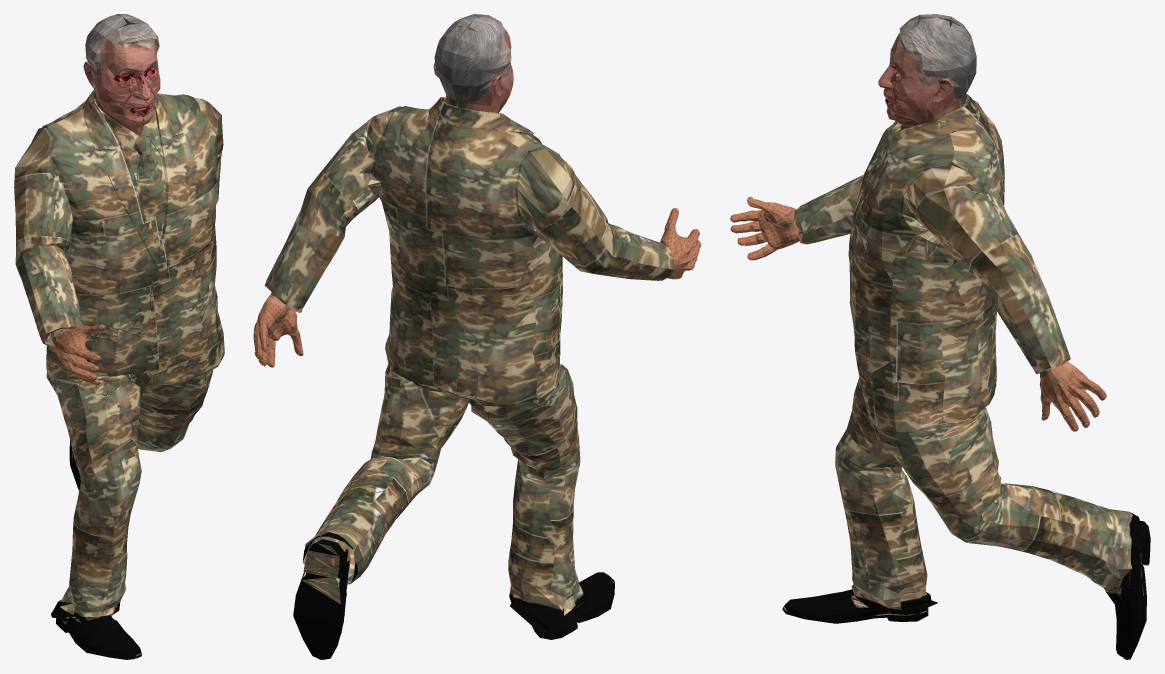
Rendered from zombie_000027.obj.
3 views of the same model, side by side, from view 1: azimuth 30°, elevation 25°; view 2: azimuth 150°, elevation 25°; view 3: azimuth 270°, elevation 25° (orthographic). The views are drawn at different scales.
Parts seen in each view (by area): view 1: Suit_coat_orig_9___De, objGeo_Hea_orig_9___D; view 2: Suit_coat_orig_9___De, objGeo_Hea_orig_9___D; view 3: Suit_coat_orig_9___De, objGeo_Hea_orig_9___D.
Part boxes in pixels (box(x1,y1,x2,y2)): Suit_coat_orig_9___De: box(14, 89, 224, 659); objGeo_Hea_orig_9___D: box(83, 14, 160, 134); Suit_coat_orig_9___De: box(253, 97, 701, 659); objGeo_Hea_orig_9___D: box(433, 14, 513, 112); Suit_coat_orig_9___De: box(730, 93, 1150, 659); objGeo_Hea_orig_9___D: box(878, 14, 976, 129).
Size of the model in its own units: 0.9006 by 1.77 by 1.07.
